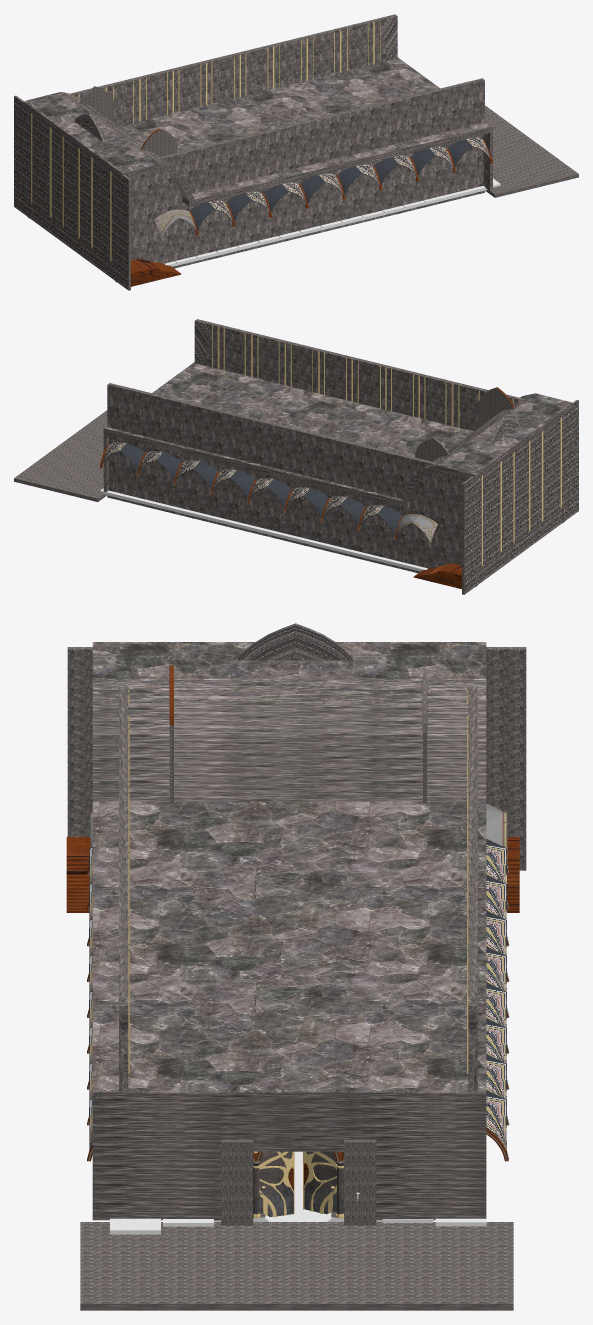
Rendered from hall.glb.
3 renders of one model, top to bottom at view 1: azimuth 30°, elevation 25°; view 2: azimuth 150°, elevation 25°; view 3: azimuth 270°, elevation 25°, orthographic. The views are drawn at different scales.
Parts seen in each view (by area): view 1: Cone.018; view 2: Cone.018; view 3: Cone.018.
Part boxes in pixels (x1,y1,x2,y2): Cone.018: [14, 14, 578, 290]; Cone.018: [14, 319, 578, 594]; Cone.018: [66, 623, 526, 1310].
Bounding box in the file's own units: 48.16 × 13.41 × 21.09.
12 materials, 12 textured.
